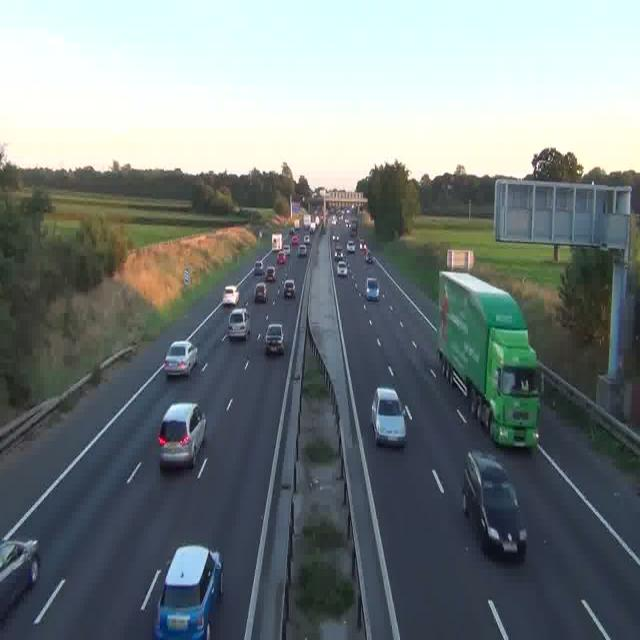car: (462, 452, 527, 558), (154, 544, 222, 639), (0, 540, 40, 620), (159, 402, 206, 469), (371, 387, 406, 446), (164, 340, 198, 377), (264, 324, 286, 354), (228, 310, 250, 340), (364, 278, 380, 300), (224, 285, 240, 306), (254, 283, 268, 302), (283, 277, 295, 298), (263, 265, 275, 282), (338, 260, 348, 278), (253, 263, 264, 278), (277, 251, 287, 264), (296, 245, 306, 258), (333, 247, 342, 261), (364, 250, 373, 263), (332, 232, 339, 243)
truck: (437, 270, 541, 446), (270, 234, 282, 253), (308, 213, 316, 230)
